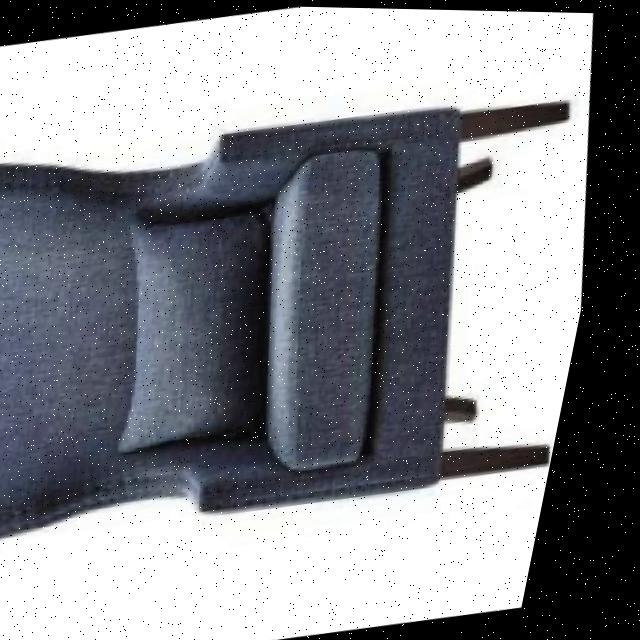sandalye: (0, 69, 629, 567)
